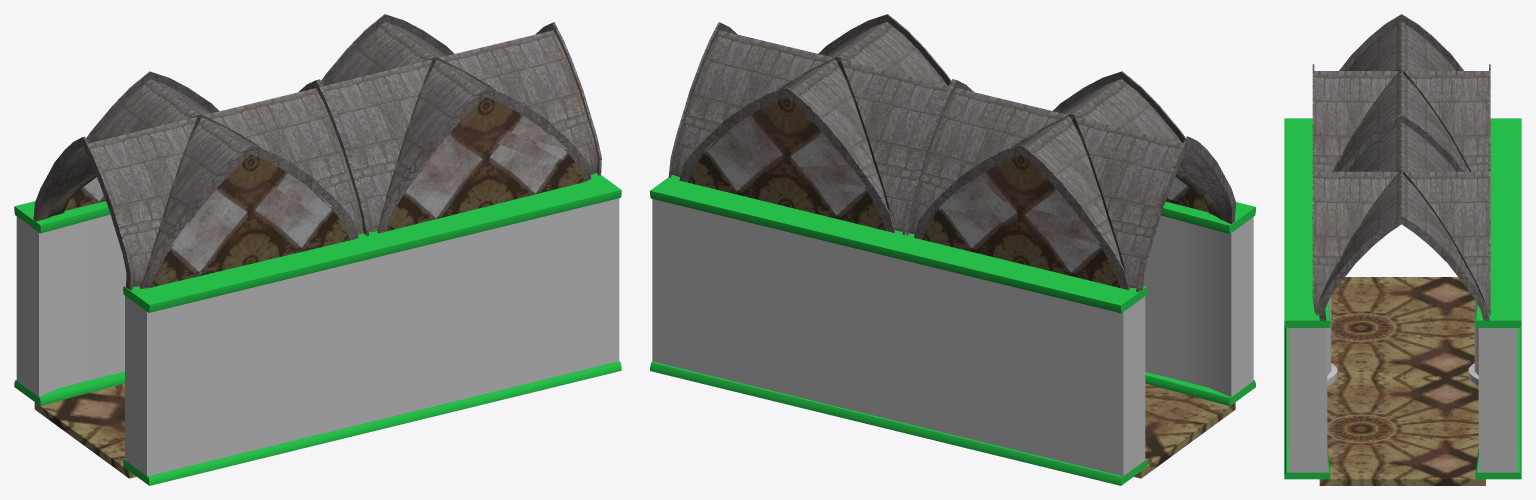
File: Basic Hallway 03 A.fbx
3 renders of one model, left to right at view 1: azimuth 30°, elevation 25°; view 2: azimuth 150°, elevation 25°; view 3: azimuth 270°, elevation 25°, orthographic. The views are drawn at different scales.
Visible parts, largest first — view 1: Plane_001; view 2: Plane_001; view 3: Plane_001.
Boxes of the visible parts, box(x1,y1,x2,y2) form: Plane_001: box(14, 14, 621, 485); Plane_001: box(650, 14, 1255, 485); Plane_001: box(1284, 14, 1521, 485).
Size of the model in its own units: 1262 by 783 by 624.
